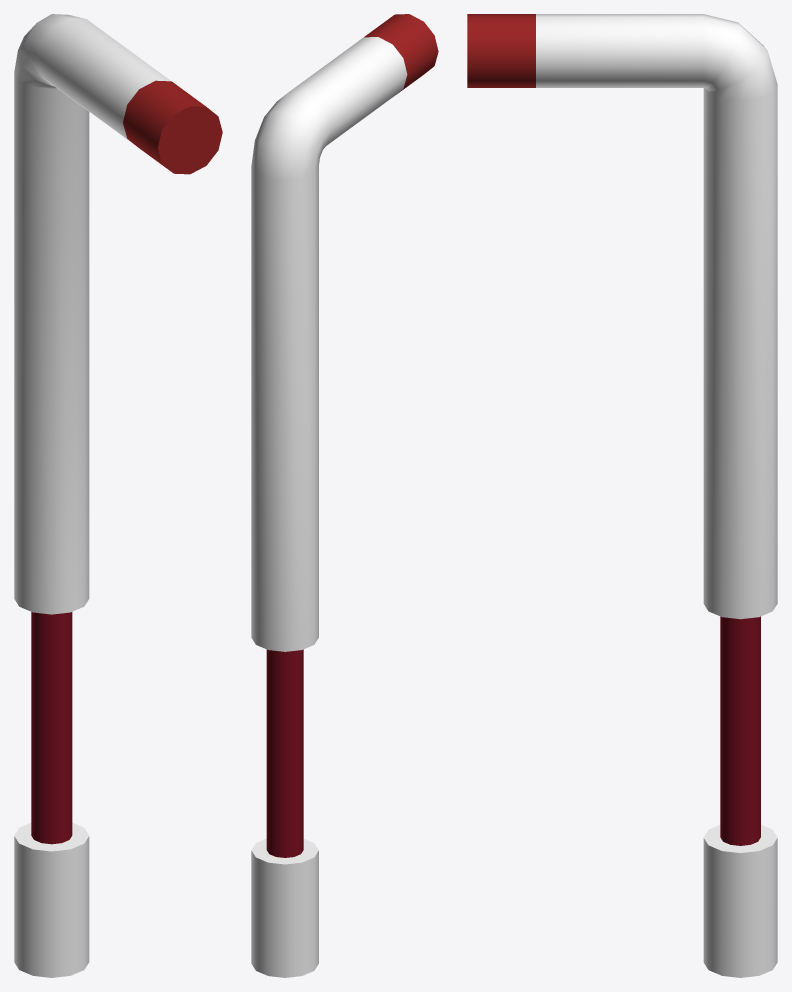
The model's file is Doodad.fbx.
3 renders of one model, left to right at view 1: azimuth 30°, elevation 25°; view 2: azimuth 150°, elevation 25°; view 3: azimuth 270°, elevation 25°, orthographic. The views are drawn at different scales.
Parts seen in each view (by area): view 1: Doodad; view 2: Doodad; view 3: Doodad.
Part boxes in pixels (x1,y1,x2,y2): Doodad: [14, 14, 222, 977]; Doodad: [251, 14, 438, 977]; Doodad: [467, 14, 777, 977].
Size of the model in its own units: 0.0516 by 0.7249 by 0.2159.
